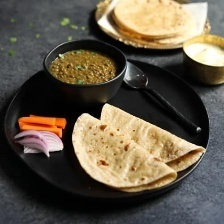roti: (107, 0, 195, 45)
